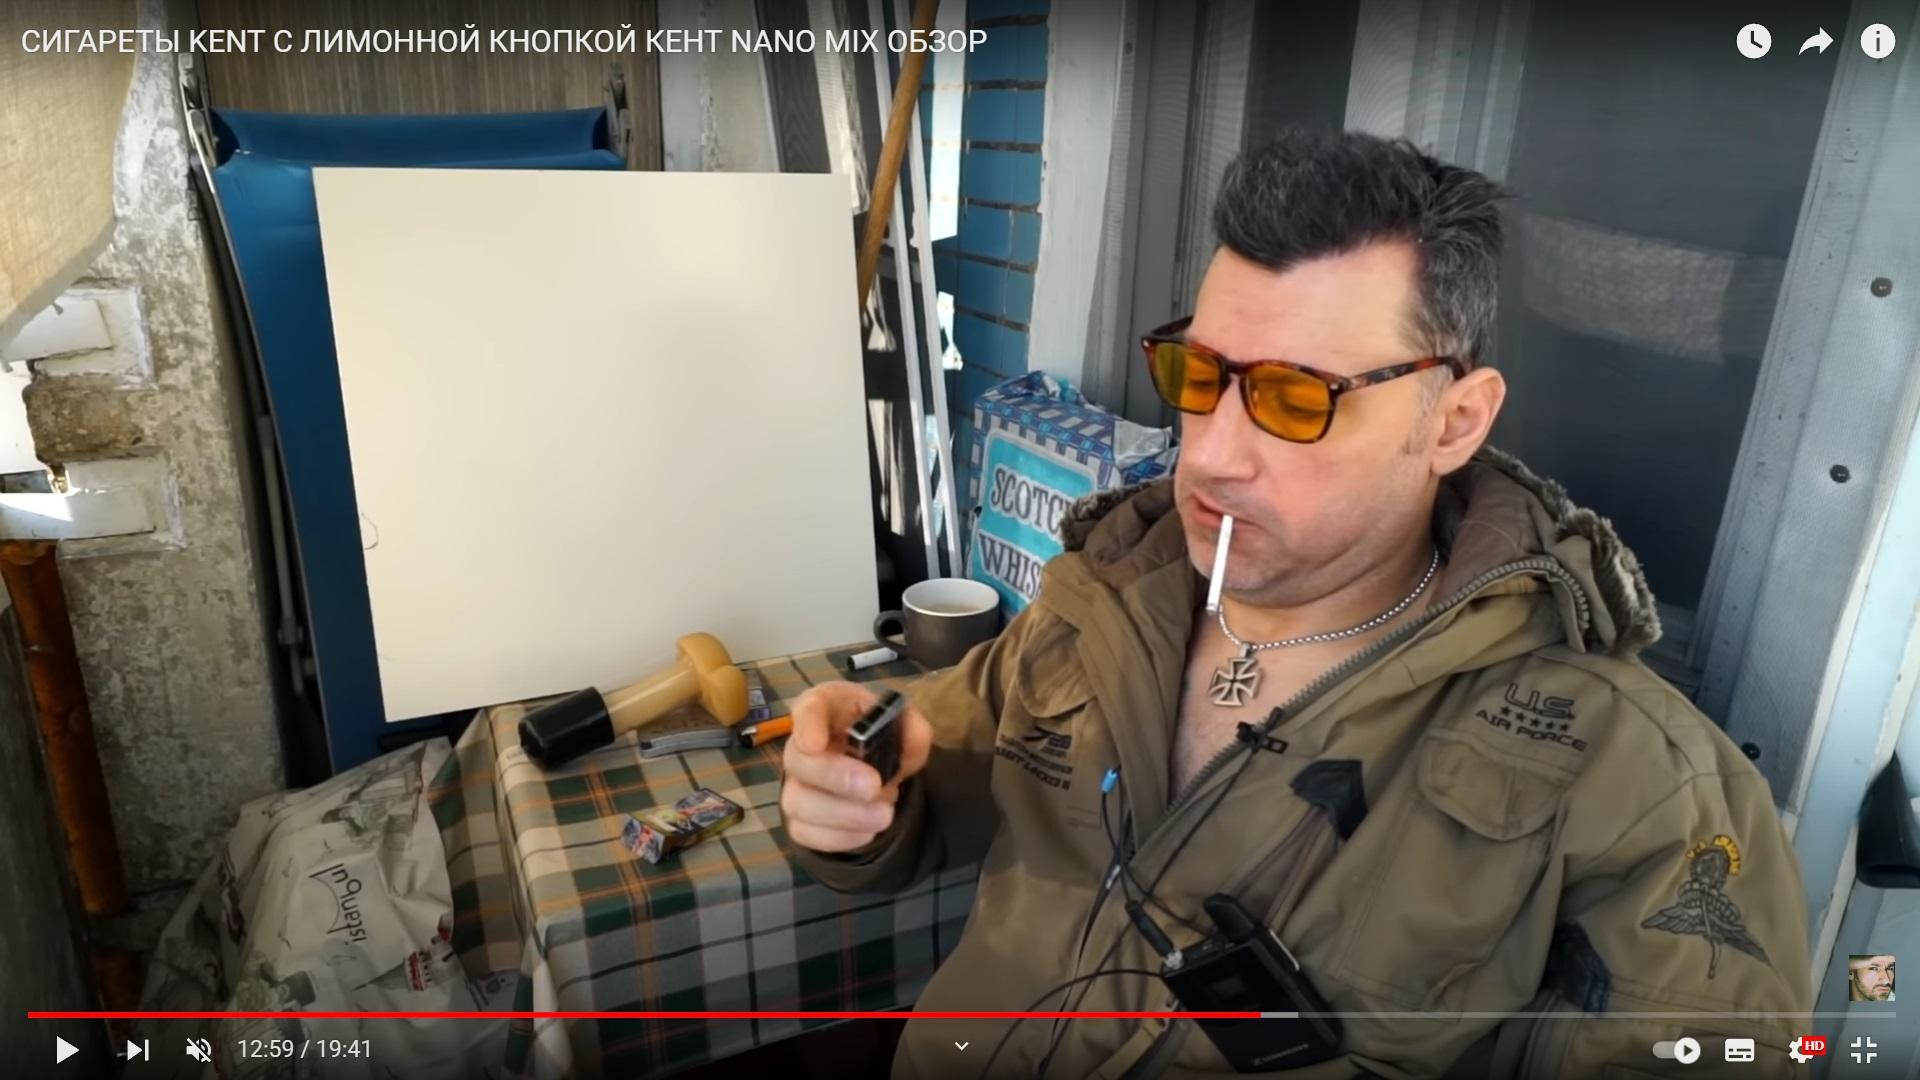cigarette: (1205, 514, 1234, 617)
